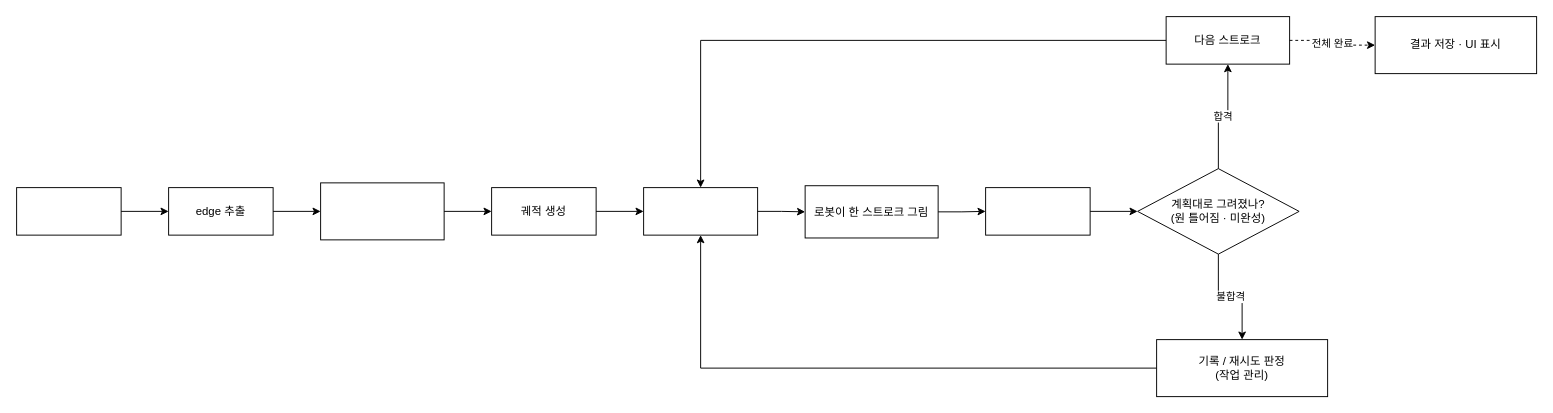
This 1553x413 diagram has some shape labels left out. Here are the shapes that lost their labels. From the top down, the centre of each, then its label:
point 68,211: 입력 이미지
point 382,211: stroke 변환 + 순서
point 700,211: 스트로크 실행
point 1037,211: 카메라 촬영
